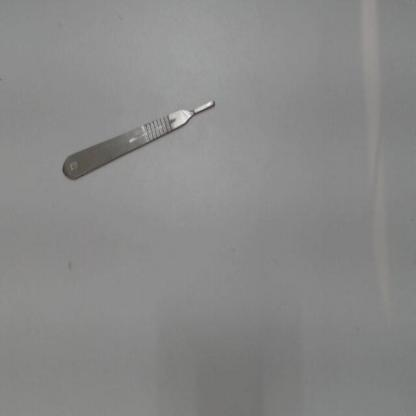No.3 BP Handle: (53, 90, 222, 193)
